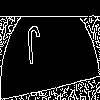J: (25, 25, 43, 74)
